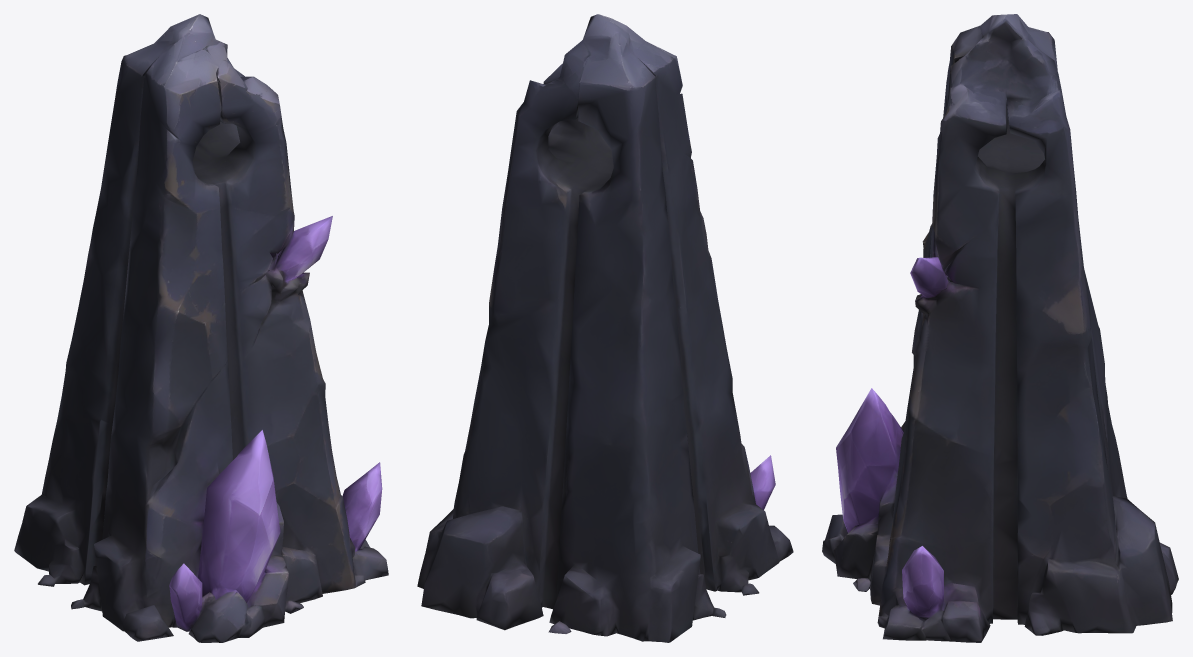
Rendered from great_monolith.glb.
3 renders of one model, left to right at view 1: azimuth 30°, elevation 25°; view 2: azimuth 150°, elevation 25°; view 3: azimuth 270°, elevation 25°, orthographic. The views are drawn at different scales.
Parts seen in each view (by area): view 1: tripo_node_c40751ea-3ca8-4fbf-9888-ac2e5456d7cb; view 2: tripo_node_c40751ea-3ca8-4fbf-9888-ac2e5456d7cb; view 3: tripo_node_c40751ea-3ca8-4fbf-9888-ac2e5456d7cb.
Part boxes in pixels (x1,y1,x2,y2): tripo_node_c40751ea-3ca8-4fbf-9888-ac2e5456d7cb: (14,14,388,642); tripo_node_c40751ea-3ca8-4fbf-9888-ac2e5456d7cb: (417,14,793,642); tripo_node_c40751ea-3ca8-4fbf-9888-ac2e5456d7cb: (822,14,1178,642).
Bounding box in the file's own units: 0.5379 × 1 × 0.5743.
Materials: 1 (1 with a texture image).
